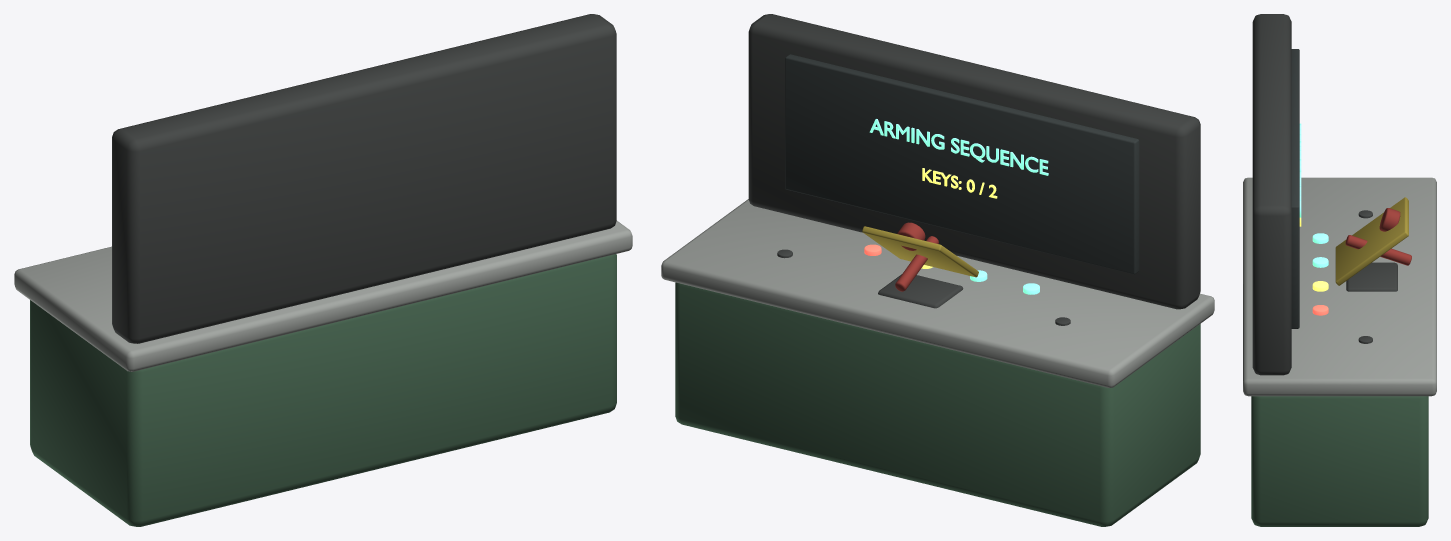
Rendered from silo_console_v3.glb.
3 views of the same model, side by side, from view 1: azimuth 30°, elevation 25°; view 2: azimuth 150°, elevation 25°; view 3: azimuth 270°, elevation 25° (orthographic). The views are drawn at different scales.
Visible parts, largest first — view 1: Launch_Backboard, Launch_Desk, Launch_Top; view 2: Launch_Desk, Launch_Screen, Launch_Top, Launch_Backboard, Launch_Guard, Launch_ScreenText, Launch_LeverBase; view 3: Launch_Top, Launch_Desk, Launch_Backboard, Launch_Guard, Launch_Screen, Launch_LeverBase, Launch_Lever, Launch_LeverKnob, Launch_ScreenText.
Boxes of the visible parts, bbox=[...] form: Launch_Backboard: bbox=[112, 14, 616, 343]; Launch_Desk: bbox=[30, 254, 616, 526]; Launch_Top: bbox=[14, 220, 632, 371]; Launch_Desk: bbox=[675, 282, 1200, 526]; Launch_Screen: bbox=[785, 54, 1139, 274]; Launch_Top: bbox=[661, 199, 1214, 387]; Launch_Backboard: bbox=[748, 14, 1200, 309]; Launch_Guard: bbox=[862, 226, 978, 277]; Launch_ScreenText: bbox=[869, 119, 1048, 175]; Launch_LeverBase: bbox=[878, 274, 963, 308]; Launch_Top: bbox=[1243, 177, 1436, 396]; Launch_Desk: bbox=[1251, 396, 1428, 526]; Launch_Backboard: bbox=[1252, 14, 1291, 375]; Launch_Guard: bbox=[1335, 197, 1408, 285]; Launch_Screen: bbox=[1291, 49, 1299, 328]; Launch_LeverBase: bbox=[1346, 262, 1397, 291]; Launch_Lever: bbox=[1345, 235, 1411, 265]; Launch_LeverKnob: bbox=[1379, 208, 1400, 231]; Launch_ScreenText: bbox=[1299, 123, 1301, 217].
Bounding box in the file's own units: 3 × 2.2 × 1.2.
